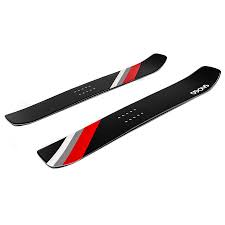skis: (4, 53, 220, 169)
